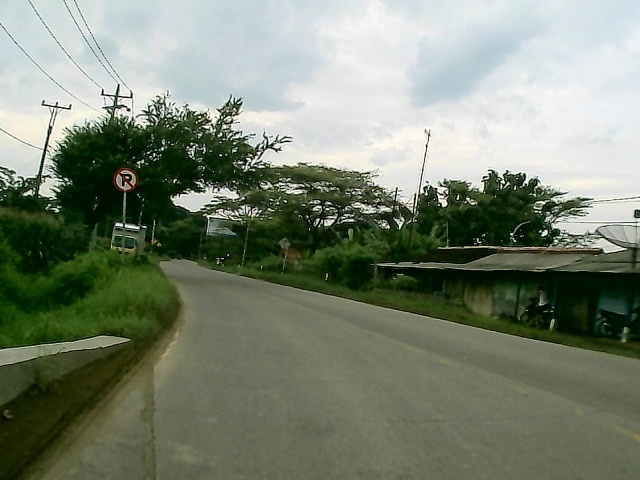Dilarang parkir: (111, 166, 140, 194)
